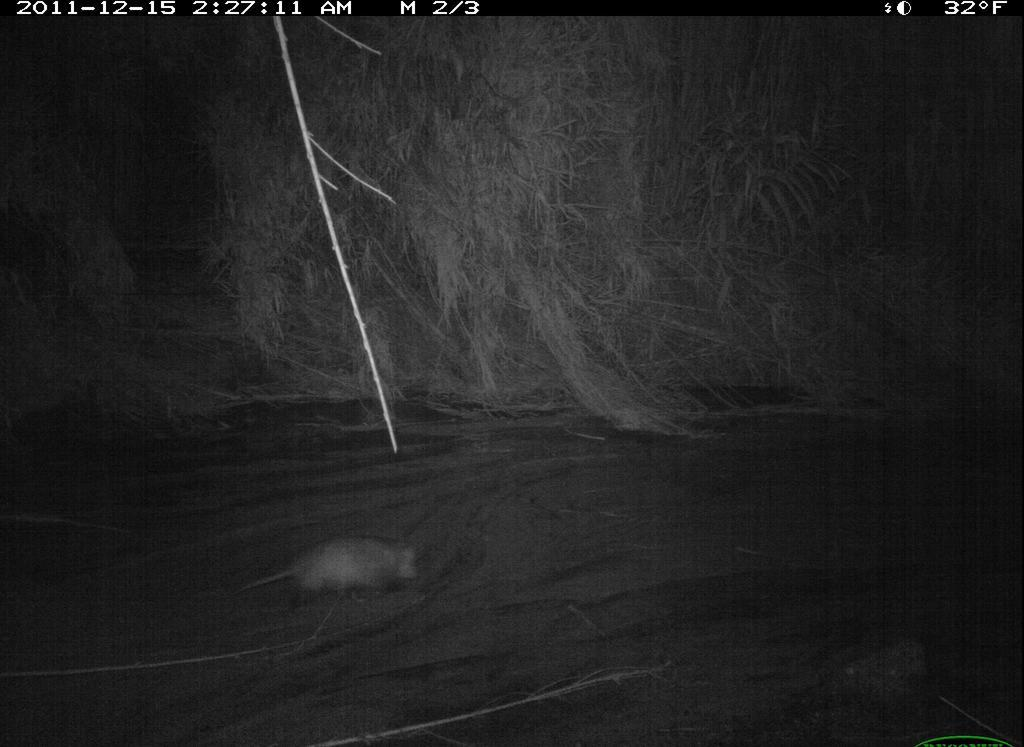opossum: (227, 530, 428, 620)
